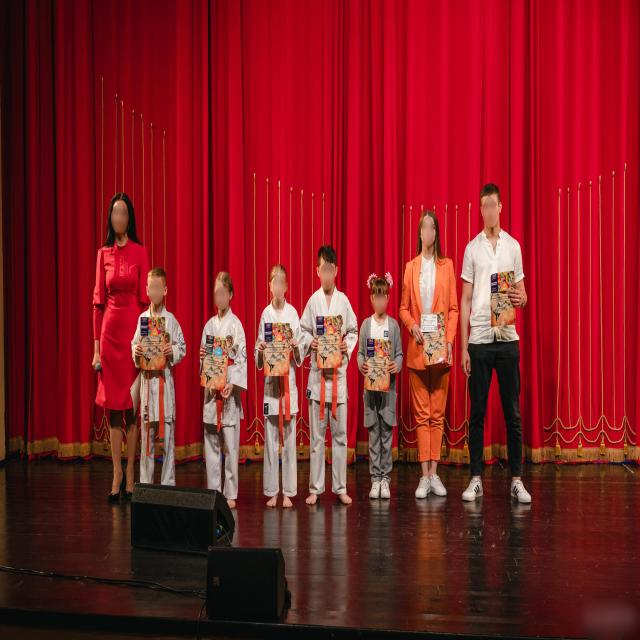Person: (459, 168, 537, 521), (400, 196, 462, 511), (79, 186, 139, 503), (300, 236, 359, 514), (198, 264, 252, 515), (255, 253, 302, 523), (137, 267, 189, 491), (357, 252, 401, 509)
